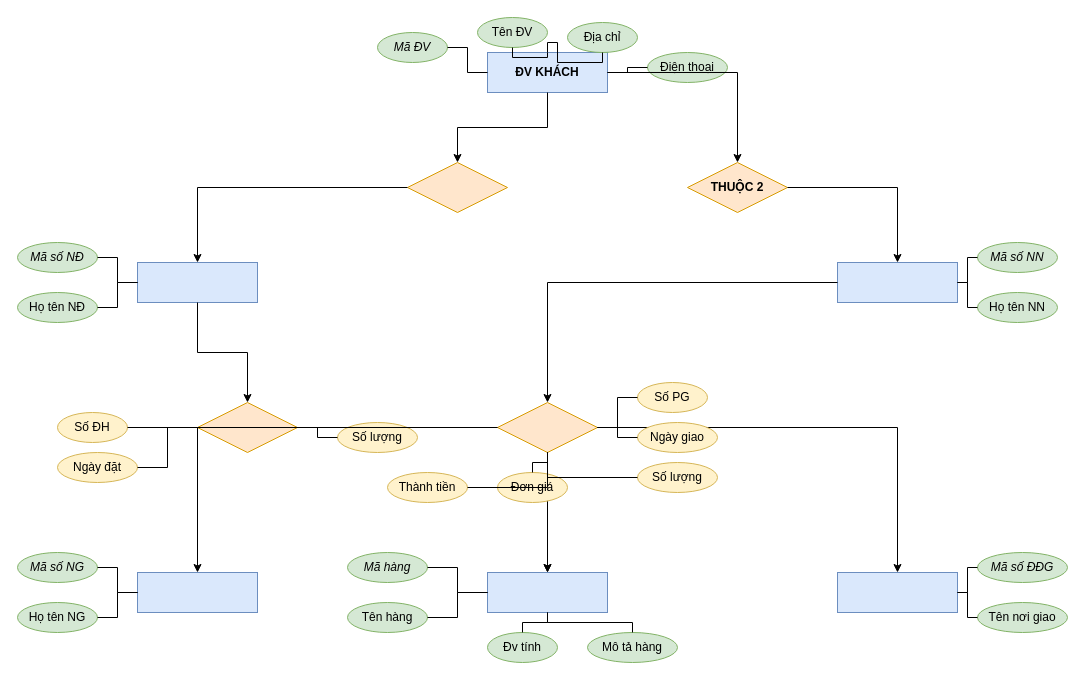
Image size: 1085x680. Some labels were removed from this diagram. Here are the shapes that lost their labels. From the top down, the centre of each, then its label:
At (457,187): "THUỘC 1".
At (197,282): "NGƯỜI ĐẶT".
At (897,282): "NGƯỜI NHẬN".
At (247,427): "ĐẶT".
At (547,427): "GIAO".
At (197,592): "NGƯỜI GIAO".
At (547,592): "HÀNG".
At (897,592): "NƠI GIAO".
